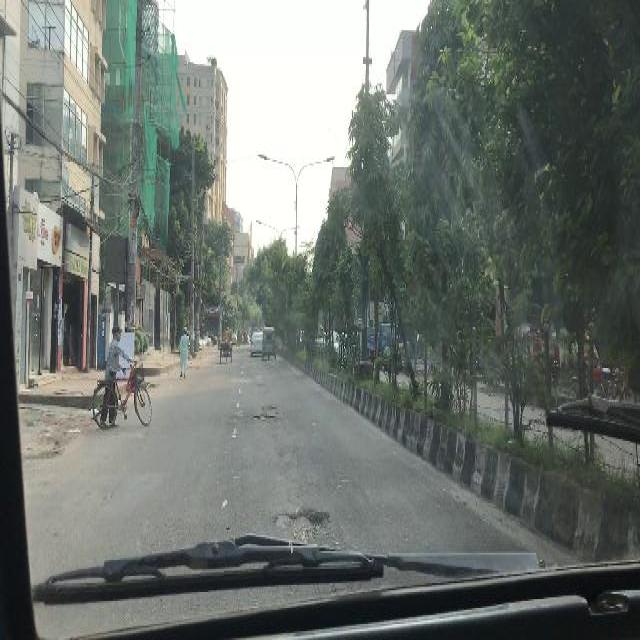11: (364, 321, 398, 362)
13: (568, 330, 634, 413), (518, 327, 558, 409)
17: (260, 326, 276, 356)
5: (326, 328, 350, 362), (189, 326, 211, 349), (248, 332, 262, 354)
Motorcycle: (89, 367, 153, 426)
